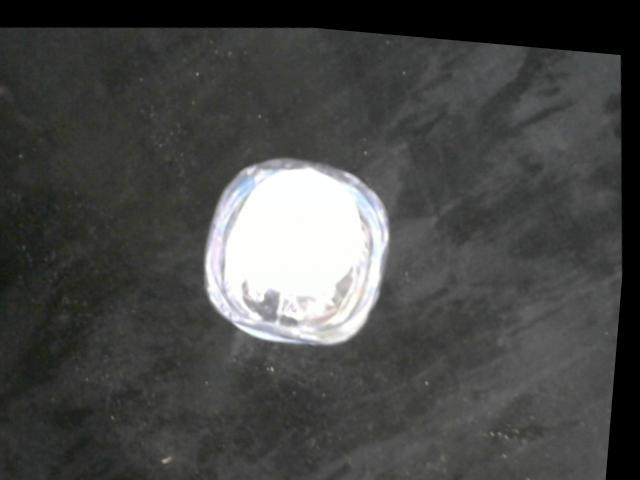bottle: (193, 135, 409, 356)
